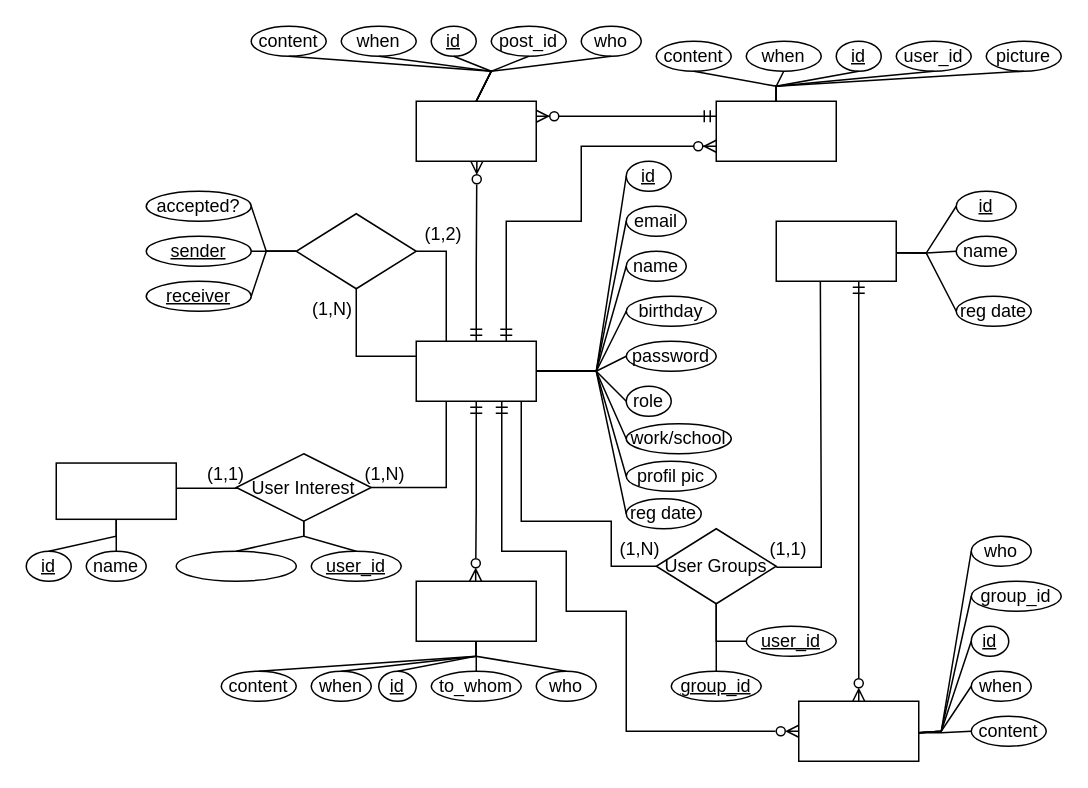
Image size: 1088x788. Some labels were removed from this diagram. The shapes that lost their labels are listed below. From the top down, each one's centre as x and y in pixels, then its label:
At (475,130): "Comments".
At (775,130): "Posts".
At (355,250): "Friend Request".
At (835,250): "Groups".
At (475,370): "Users".
At (115,490): "Interests".
At (235,565): "interest_id".
At (475,610): "Messages".
At (858,730): "Group Messages".
